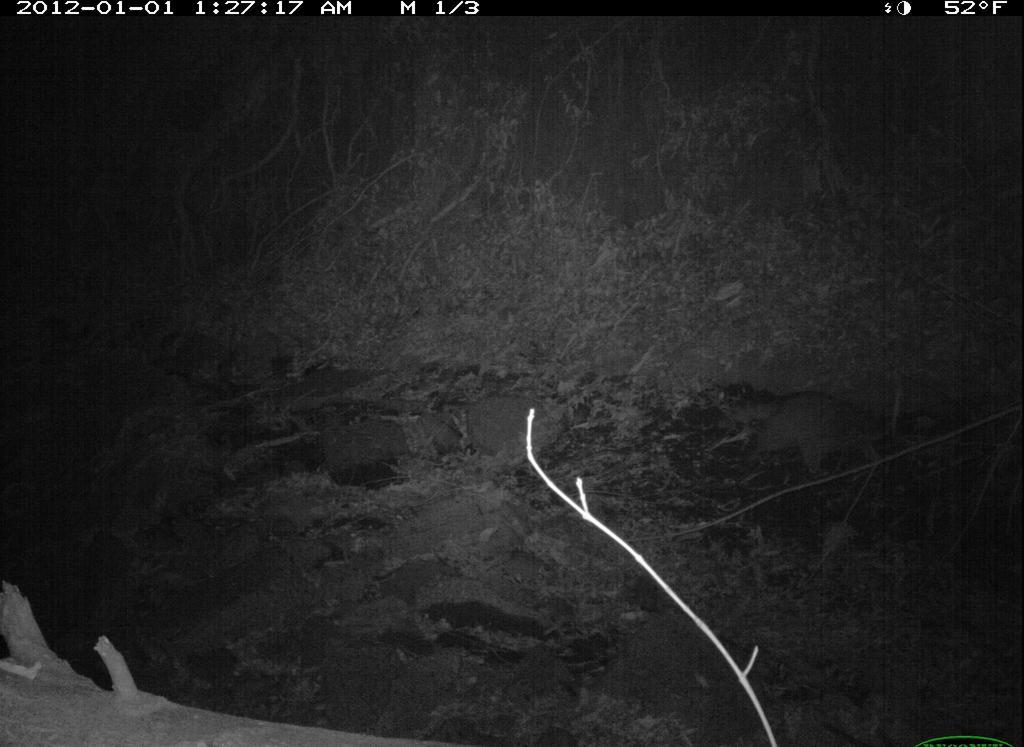raccoon: (716, 390, 911, 482)
